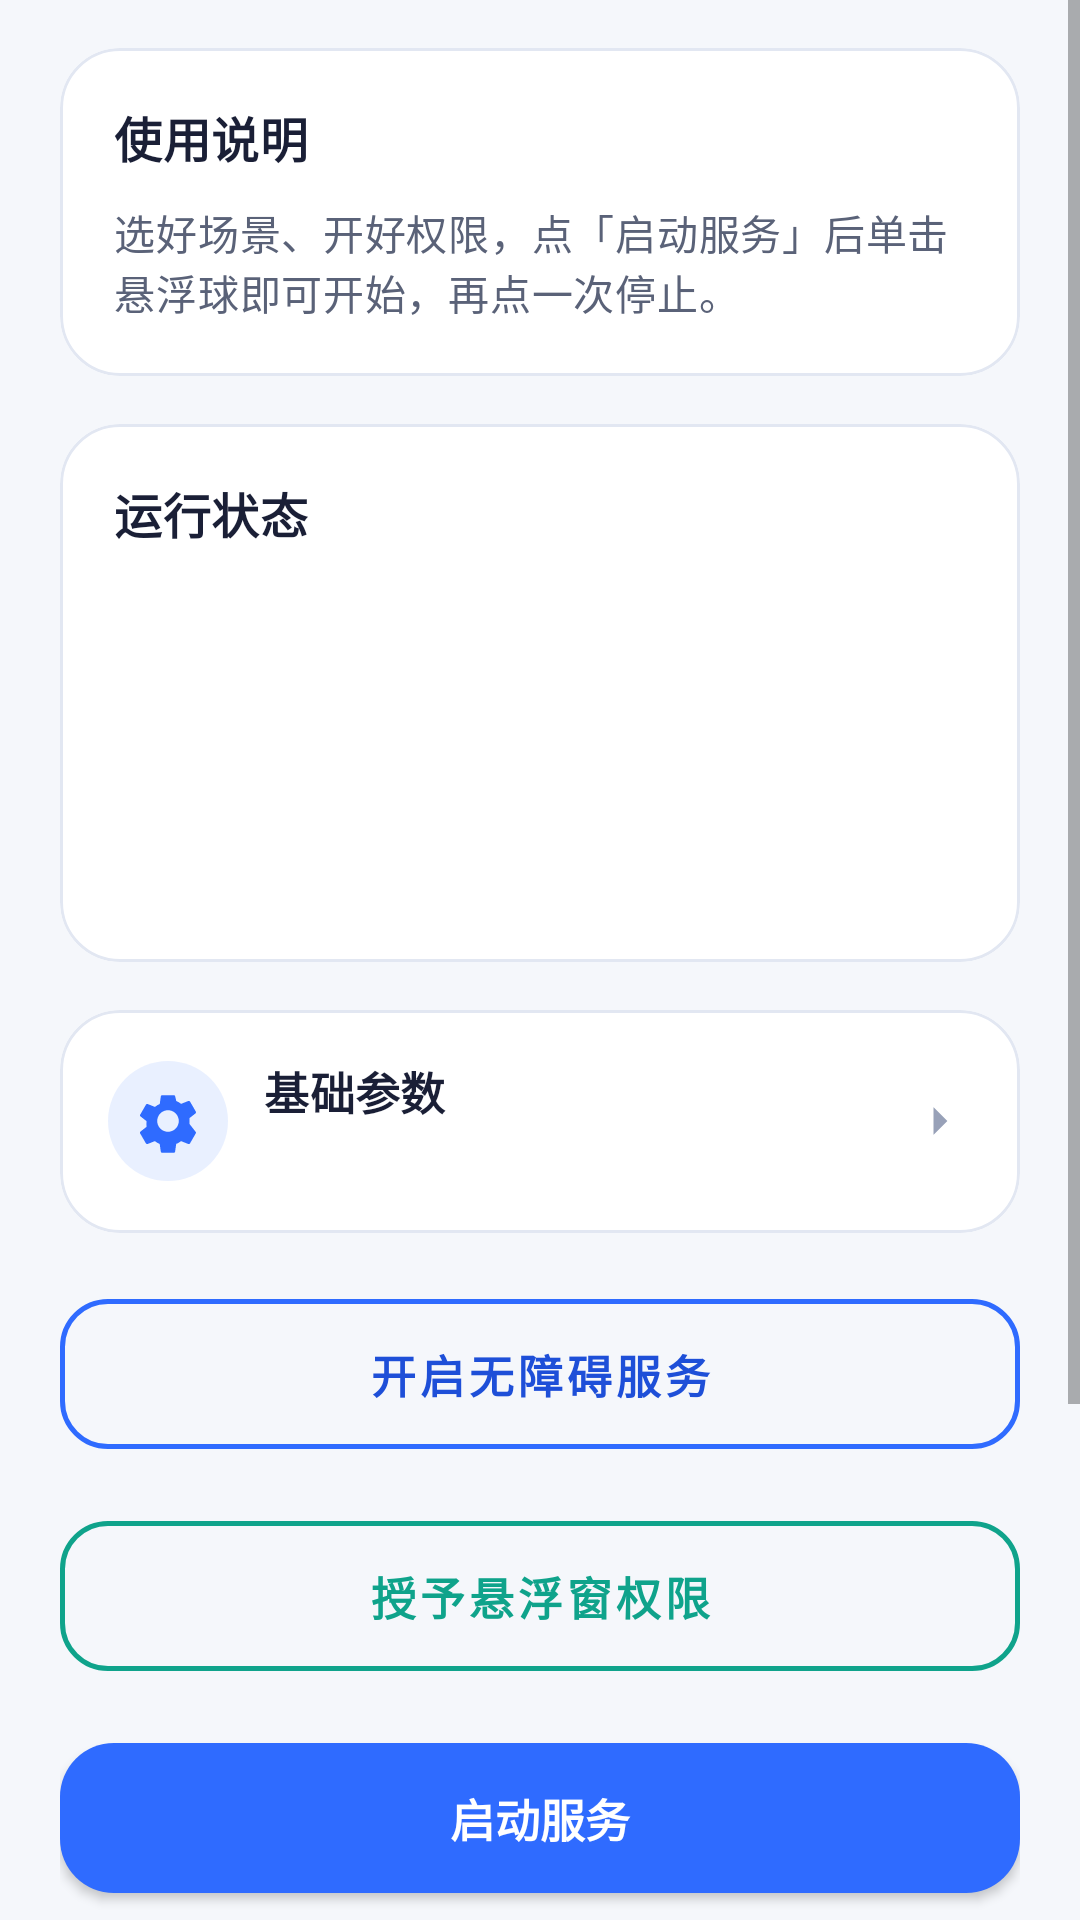

Screen size 1080w x 1920h. Icon name, then its box in pixels as (x1, y1, x2, y2):
chevron right: (933, 1107, 947, 1135)
